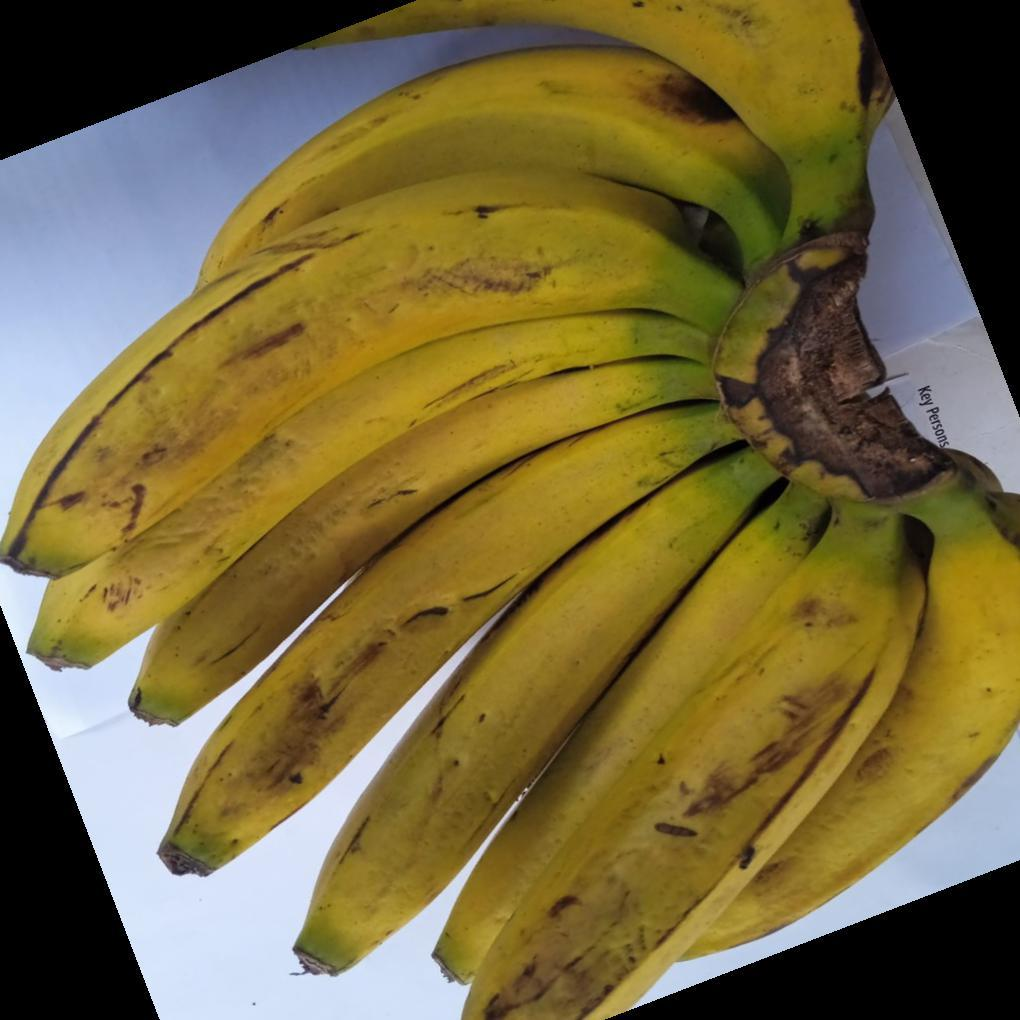Banana Ripe: (49, 8, 1020, 1020)
